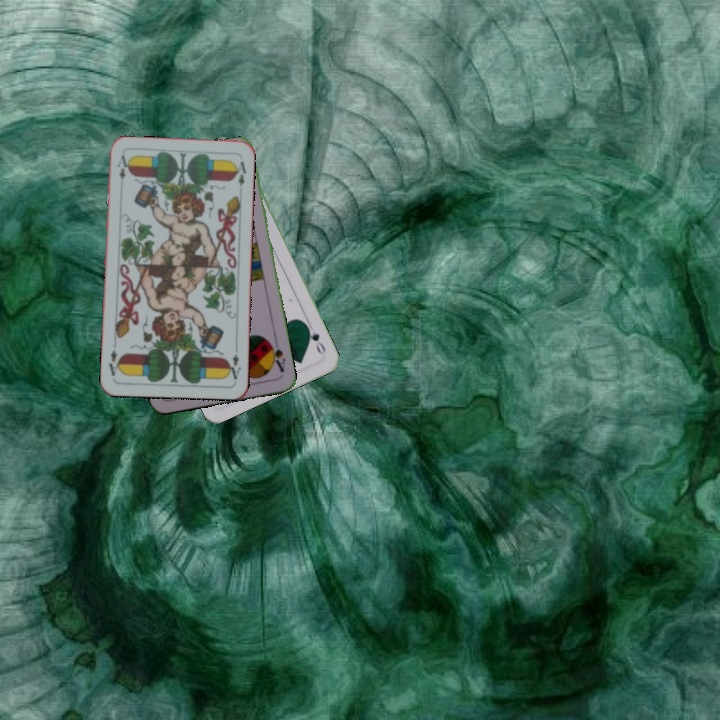EA: (224, 343, 243, 382), (113, 151, 129, 191)
GO: (302, 321, 328, 358)
SA: (265, 338, 288, 375)
